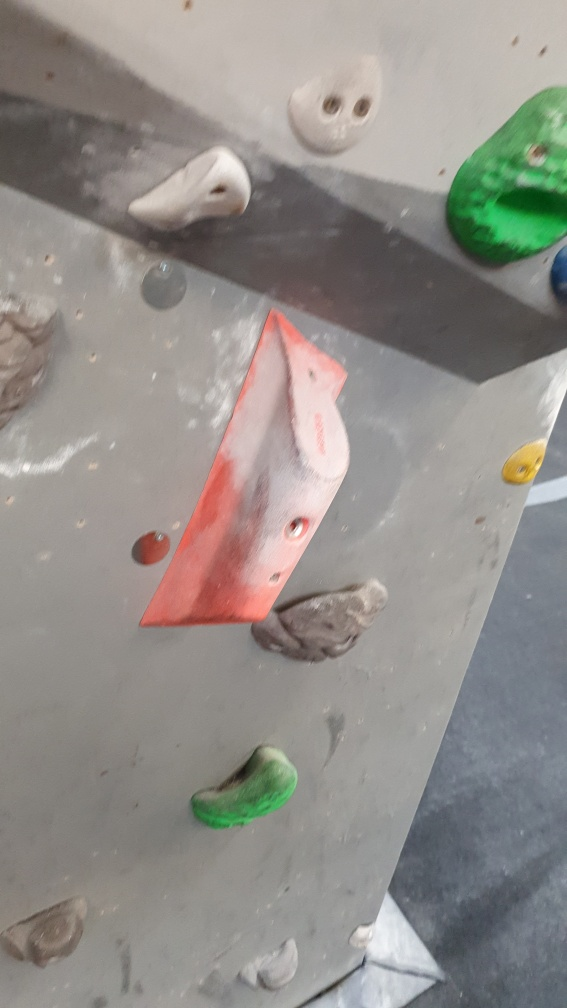Hand Start: (138, 257, 194, 315), (130, 528, 174, 567)
Jug: (248, 578, 389, 663), (185, 741, 300, 837)
Pinch: (136, 307, 354, 639)
